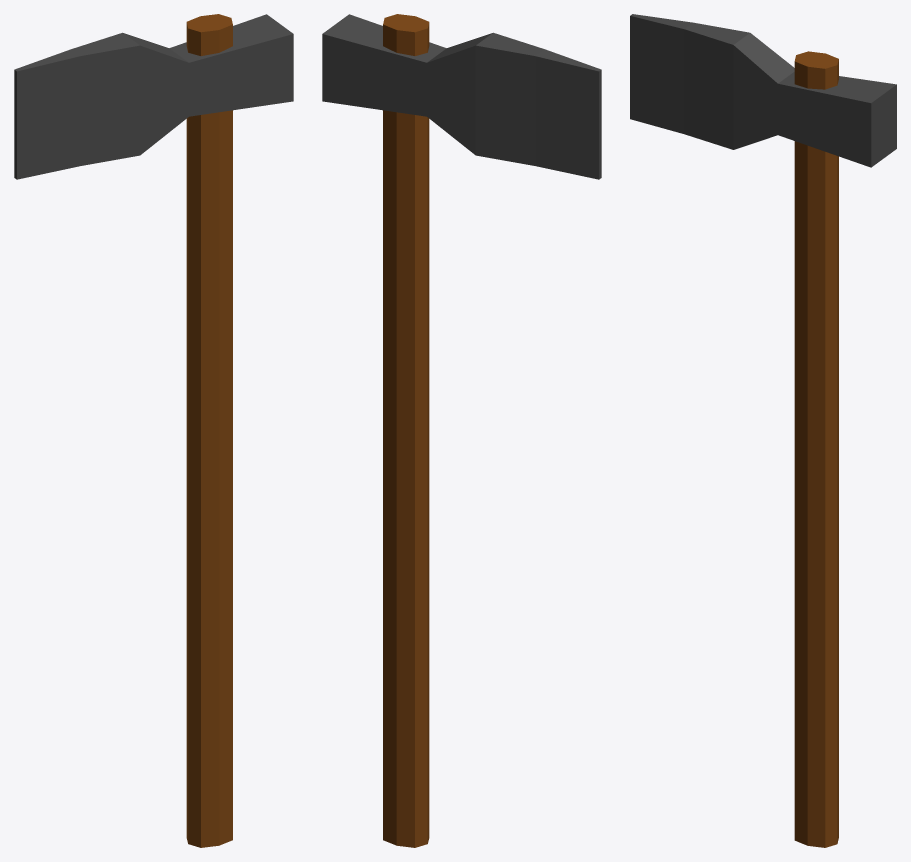
The picture shows the model from 3 angles, left to right: view 1: azimuth 30°, elevation 25°; view 2: azimuth 150°, elevation 25°; view 3: azimuth 330°, elevation 25°; orthographic projection. The views are drawn at different scales.
Visible parts, largest first — view 1: Cube; view 2: Cube; view 3: Cube.
Boxes of the visible parts, x1,y1,x2,y2 form: Cube: (14, 14, 293, 847); Cube: (322, 14, 601, 847); Cube: (630, 14, 896, 847).
Bounding box in the file's own units: 241 × 712 × 42.43.
